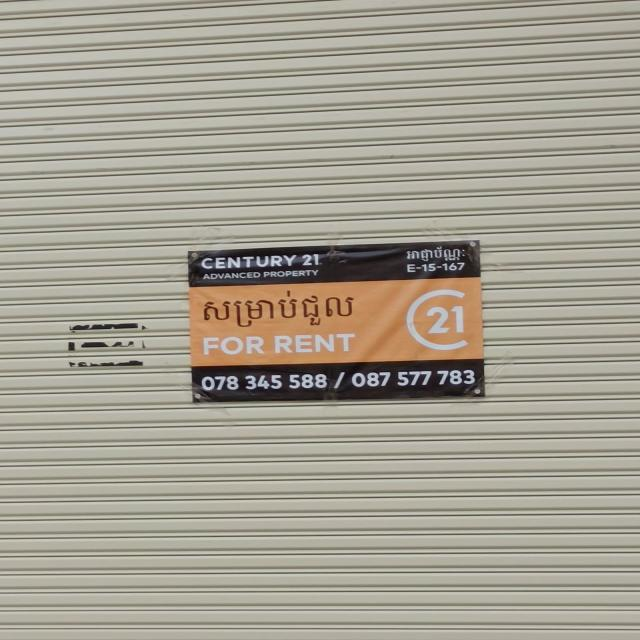390: (195, 366, 481, 396)
Yolov11_80vkh: (199, 286, 357, 332), (402, 244, 463, 264)
